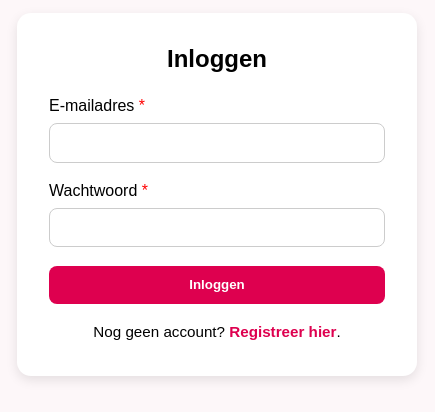
Test: LoginForm component › toont foutmelding bij mislukte login
Type "fout@mail.com" into the field labelled "E-mailadres" at x=217, y=143, box top-left (49, 123), bottom-right (385, 163)
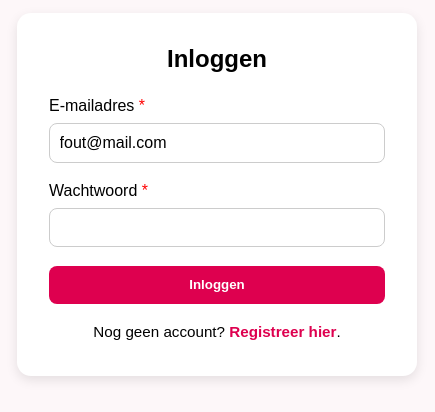
Type "verkeerd" into the password field labelled "Wachtwoord" at x=217, y=227, box top-left (49, 208), bottom-right (385, 247)
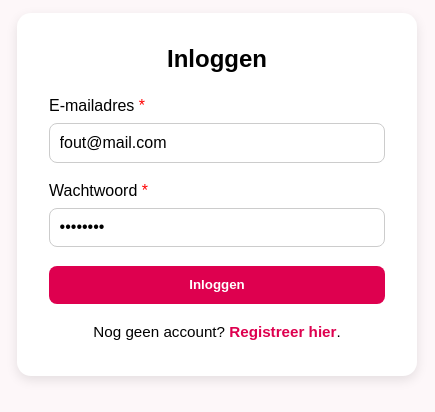
Click the button "Inloggen" at x=217, y=285, box top-left (49, 266), bottom-right (385, 304)
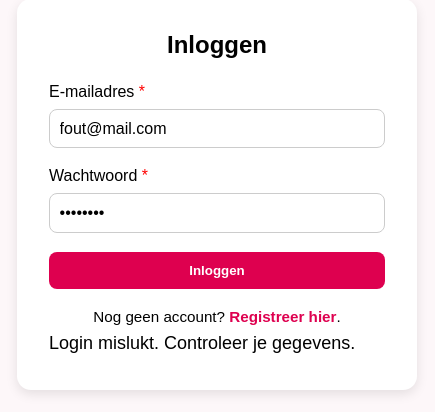
Check: the text "Login mislukt. Controleer je gegevens." is shown, box top-left (49, 329), bottom-right (385, 358)
